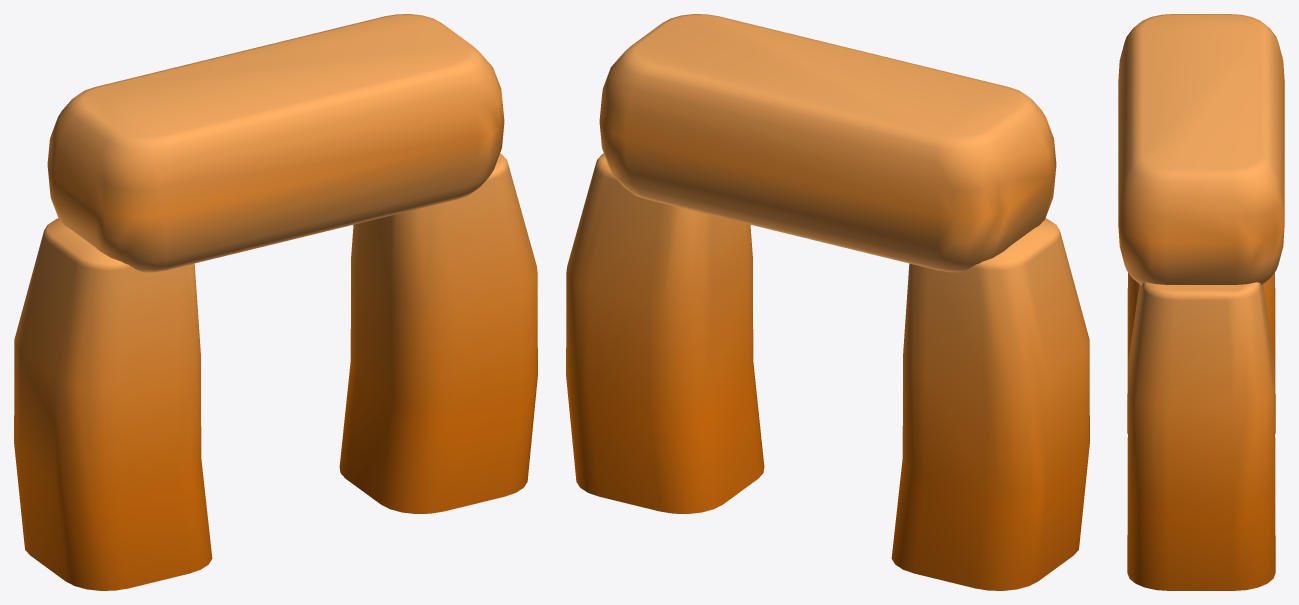
File: Rock_A_06.fbx
3 views of the same model, side by side, from view 1: azimuth 30°, elevation 25°; view 2: azimuth 150°, elevation 25°; view 3: azimuth 270°, elevation 25° (orthographic). The views are drawn at different scales.
Visible parts, largest first — view 1: Rock_A_06; view 2: Rock_A_06; view 3: Rock_A_06.
Boxes of the visible parts, x1,y1,x2,y2 form: Rock_A_06: (14,14,537,590); Rock_A_06: (566,14,1089,590); Rock_A_06: (1118,14,1284,590).
Size of the model in its own units: 491 by 430 by 163.
